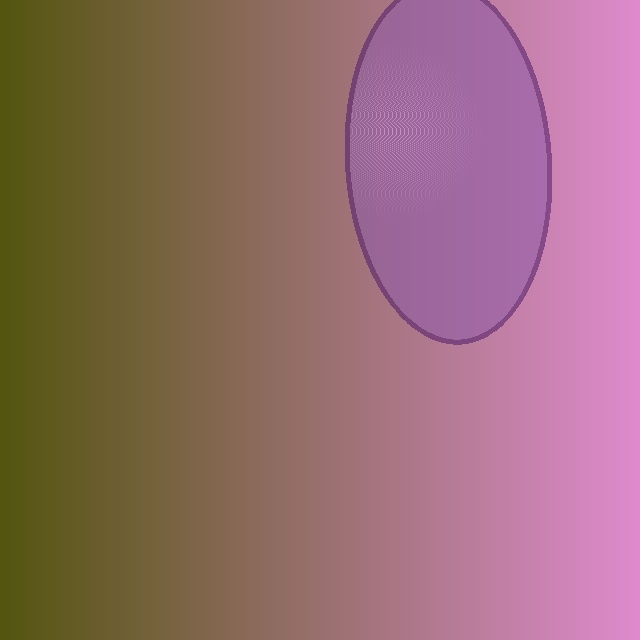lens: (347, 0, 549, 342)
